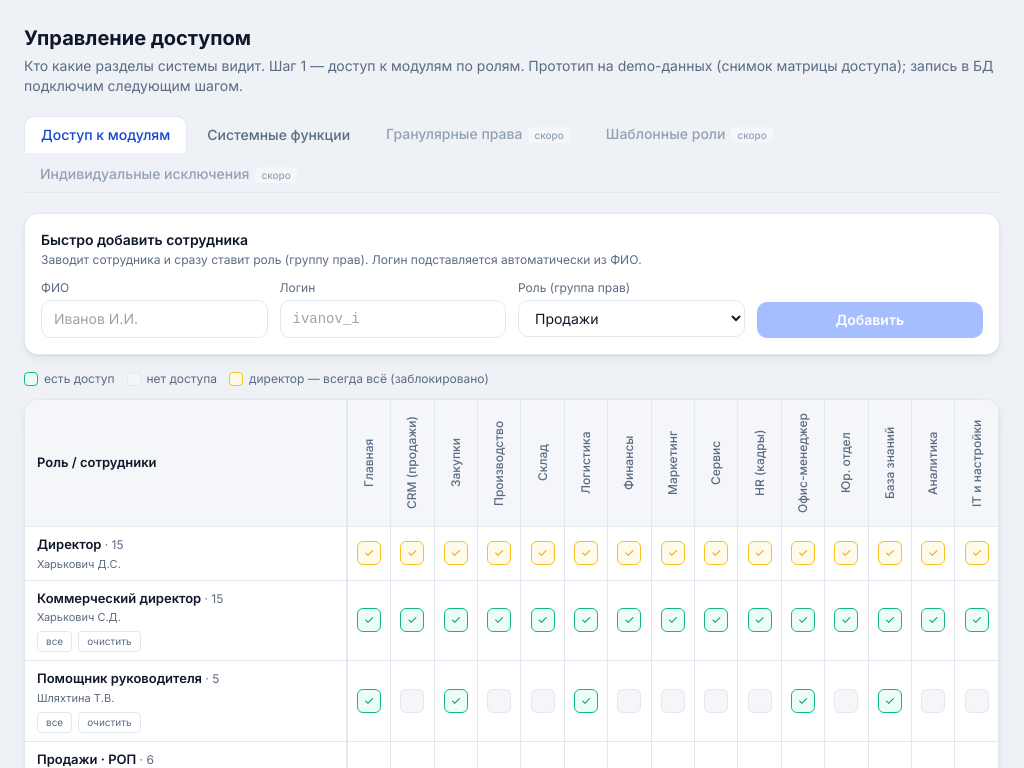
Scenario: AccessAdmin › быстрое добавление: логин автогенерится из ФИО, сотрудник попадает в матрицу
Type "Сидоров Пётр" into the field with placeholder "Иванов И.И.".
click(154, 319); type("Сидоров Пётр")  # box [41, 300, 268, 338]
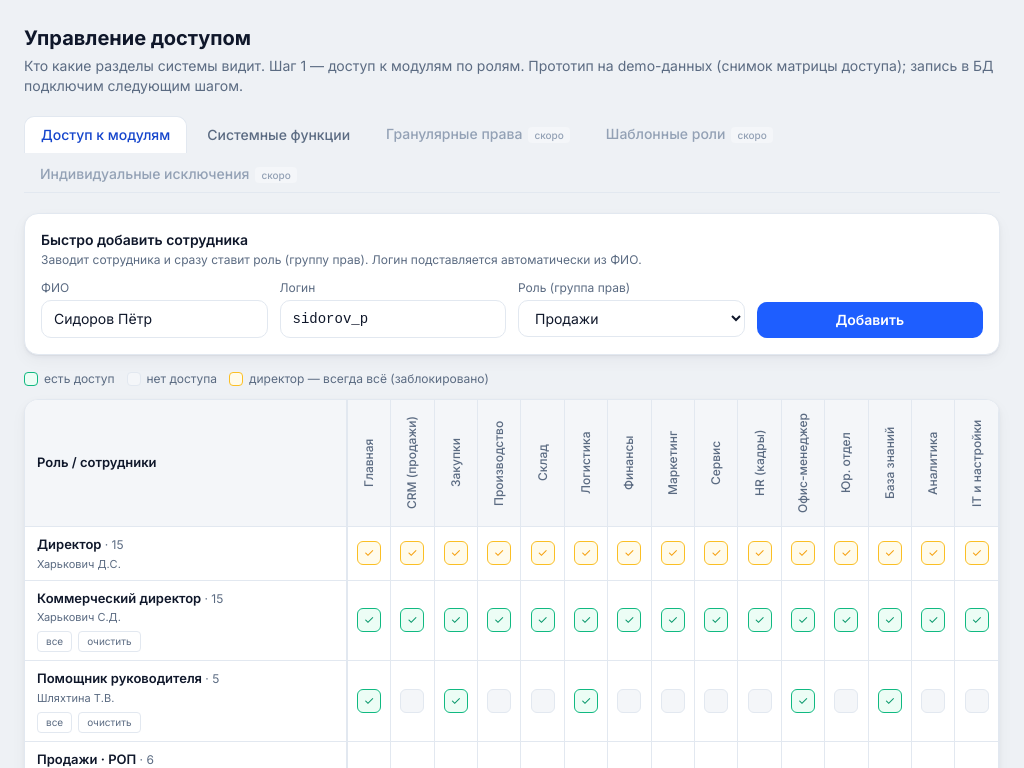
Result: the field with placeholder "ivanov_i" holds "sidorov_p" at [280, 300, 506, 338]
Click the button "Добавить".
click(870, 320)  # box [756, 302, 983, 338]
(page scrolled)
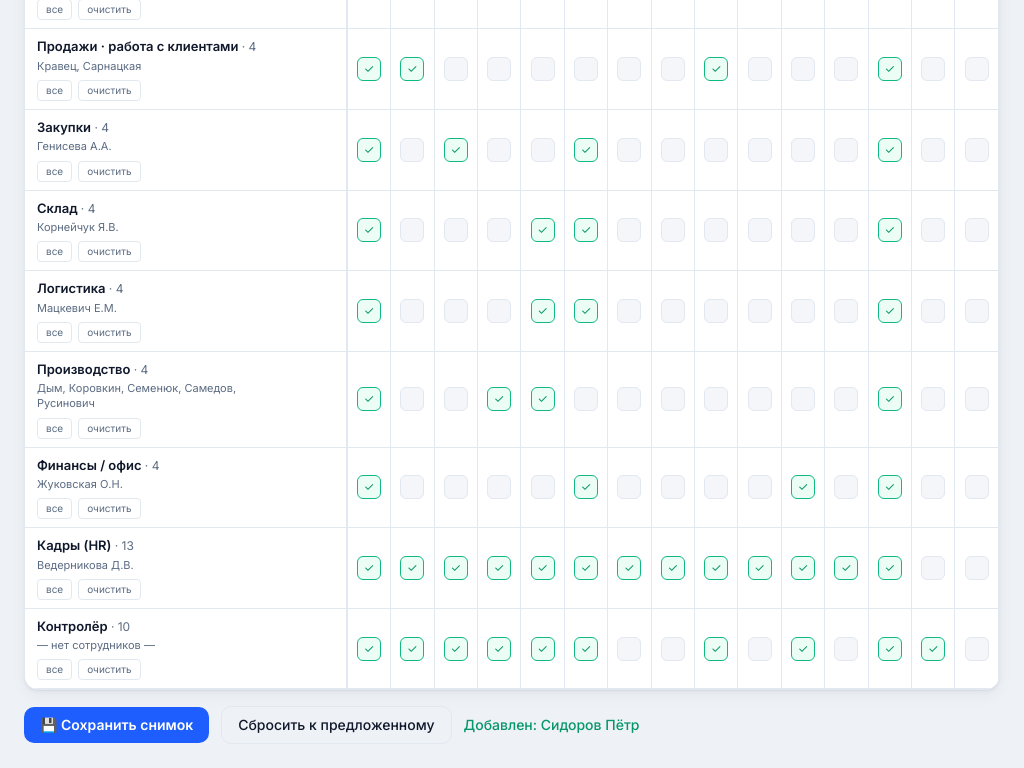
Result: the text "Добавлен: Сидоров Пётр" is shown at [464, 715, 640, 735]
